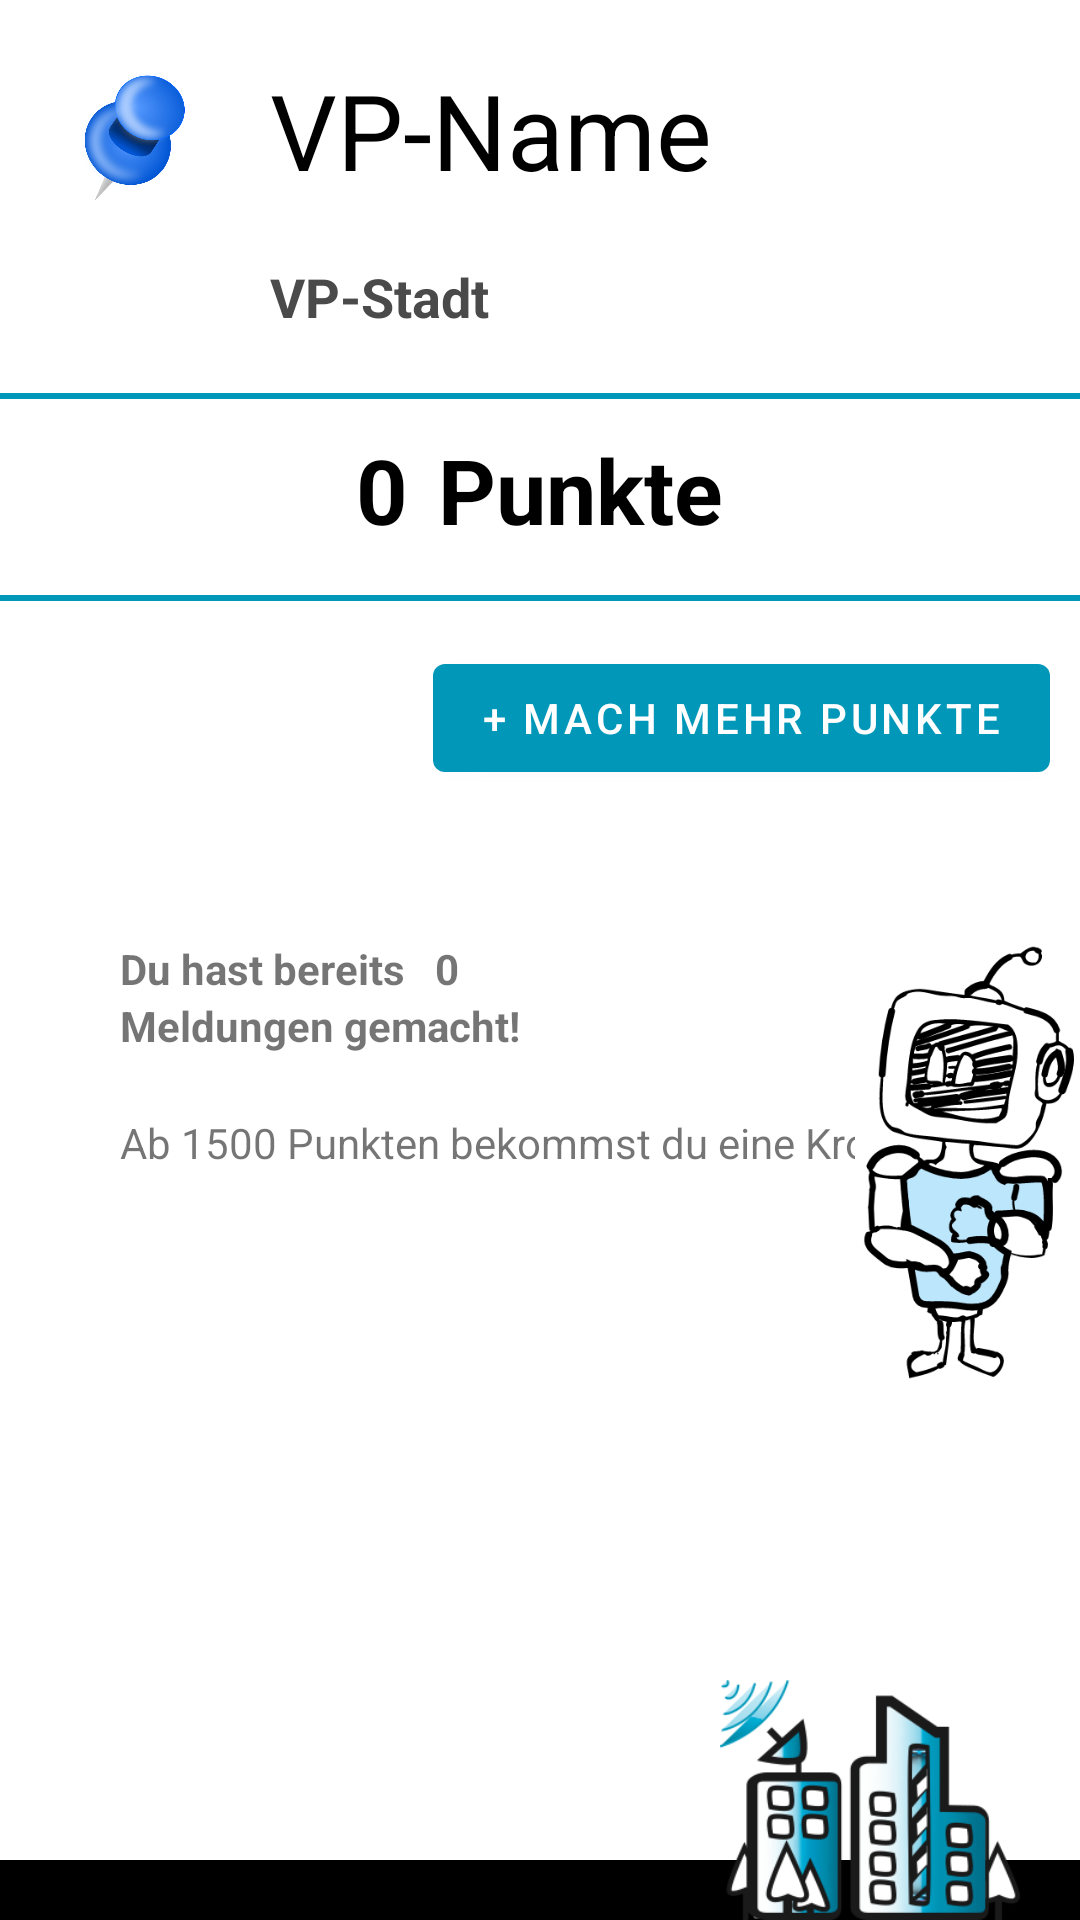

Where icons sit on this 1080px×1920px app screen, as (x1, y1, x2, y2):
pin: (85, 75, 185, 200)
